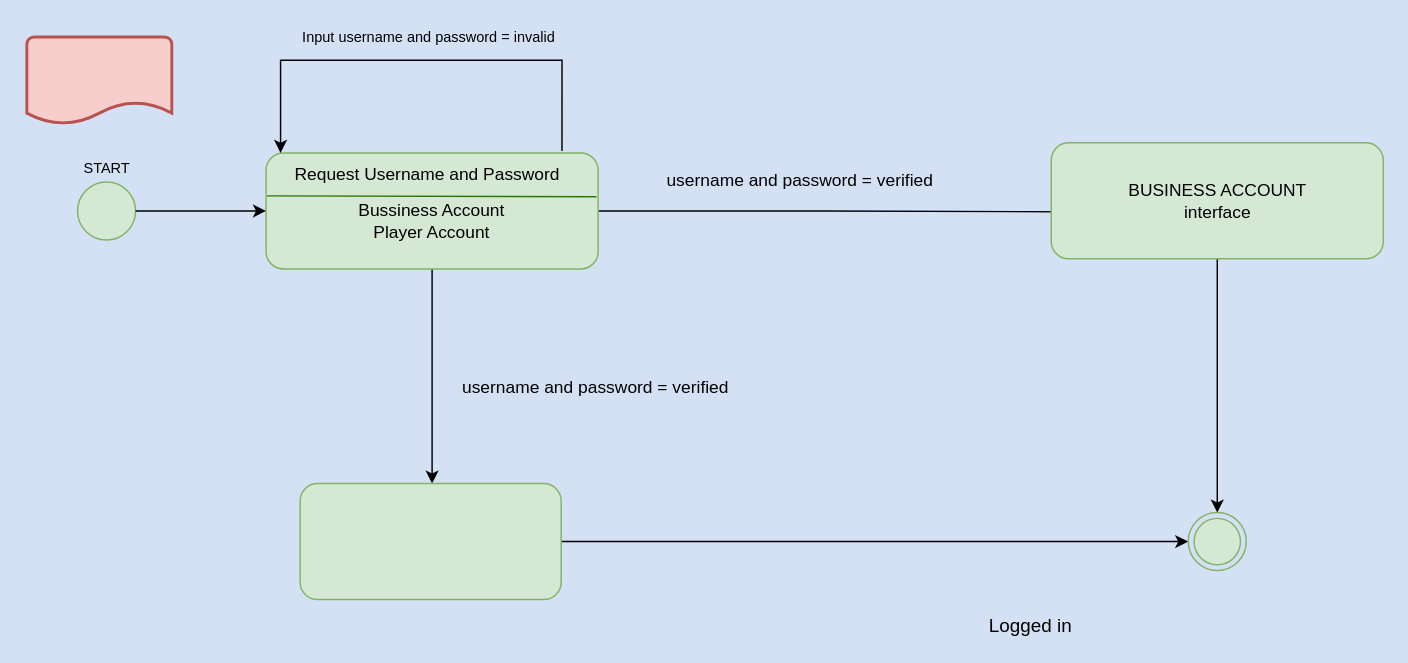
Image size: 1408x663. Some labels were removed from this diagram. Here are the shapes that lost their labels. From the top down, the centre of each, then its label:
point 99,80: Log In
point 430,541: PLAYER ACCOUNT interface
